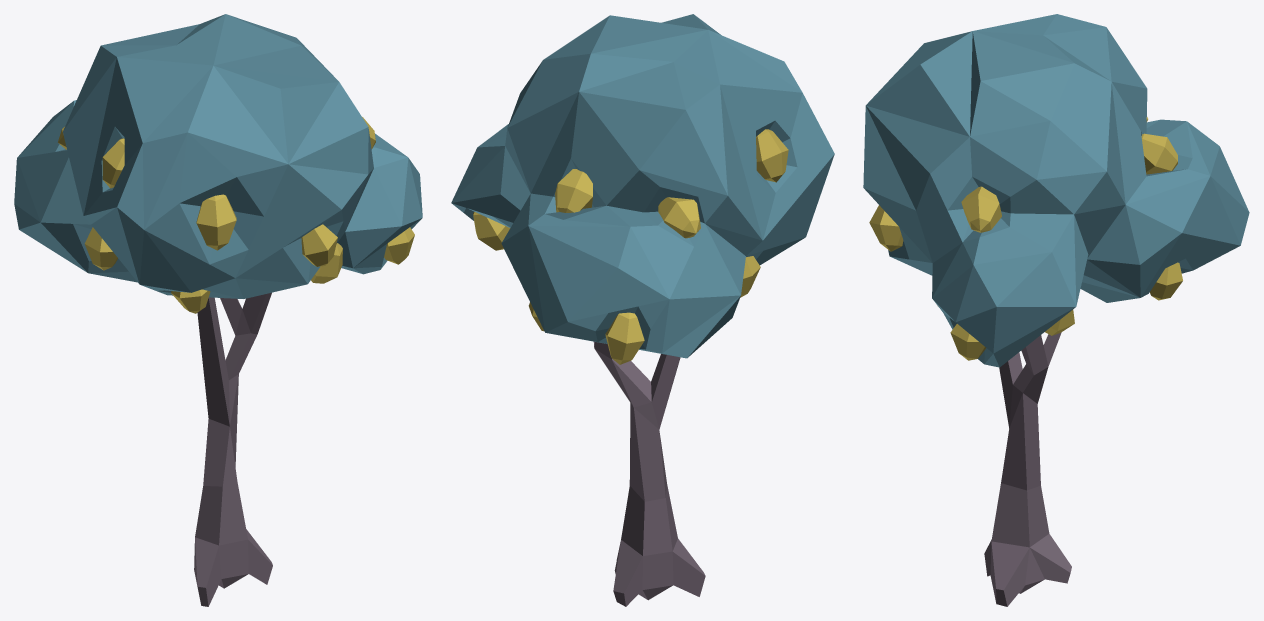
File: SM_Env_Tree_Lemon_Grown_01.fbx
3 views of the same model, side by side, from view 1: azimuth 30°, elevation 25°; view 2: azimuth 150°, elevation 25°; view 3: azimuth 270°, elevation 25° (orthographic). The views are drawn at different scales.
Parts seen in each view (by area): view 1: SM_Env_Tree_Lemon_Grown_01; view 2: SM_Env_Tree_Lemon_Grown_01; view 3: SM_Env_Tree_Lemon_Grown_01.
Part boxes in pixels (x1,y1,x2,y2): SM_Env_Tree_Lemon_Grown_01: (14, 14, 422, 606); SM_Env_Tree_Lemon_Grown_01: (451, 14, 834, 606); SM_Env_Tree_Lemon_Grown_01: (863, 14, 1249, 606).
Bounding box in the file's own units: 1.73 × 2.76 × 1.77.
Materials: 1 (1 with a texture image).
